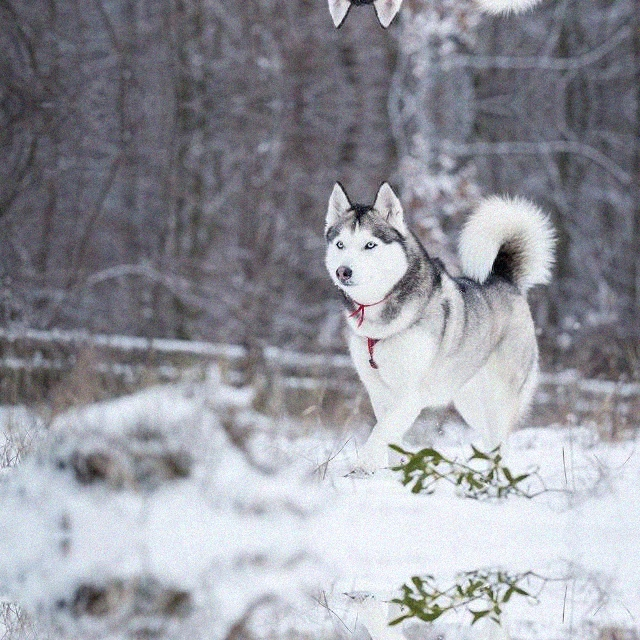dog: (328, 184, 552, 464), (327, 606, 552, 640), (327, 0, 552, 24)
